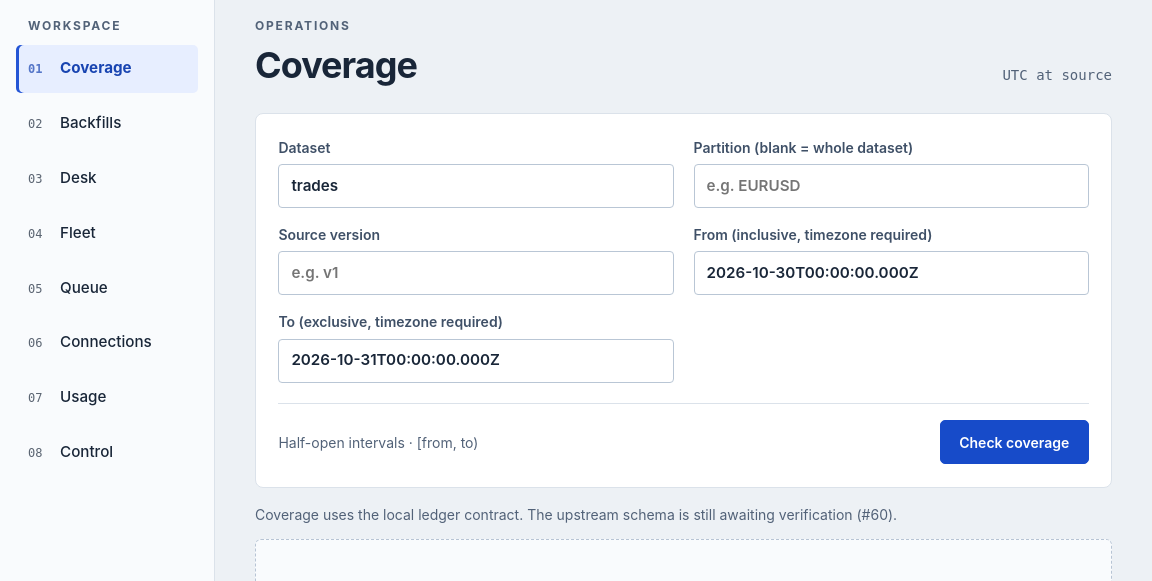
Test: renders the lifecycle buttons the server declares, not a hardcoded list
Click the button "08 Control": x=107, y=452 [16,428,198,476]
(page scrolled)
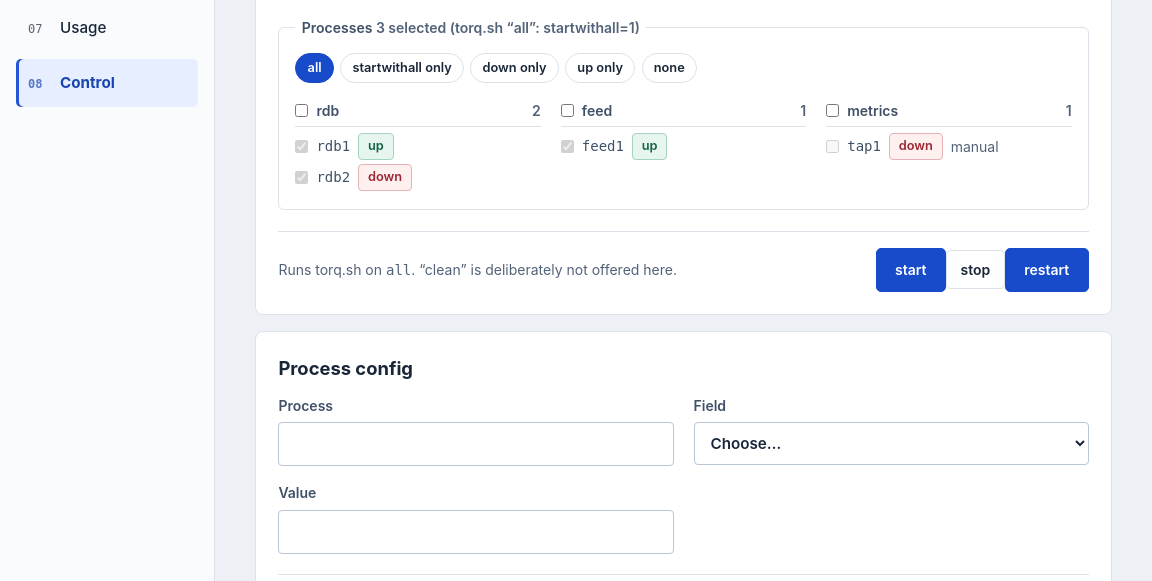
Result: the button "start" is shown at [876,248,946,292]
Result: the button "stop" is shown at [946,250,1005,289]
Result: the button "restart" is shown at [1005,248,1089,292]
